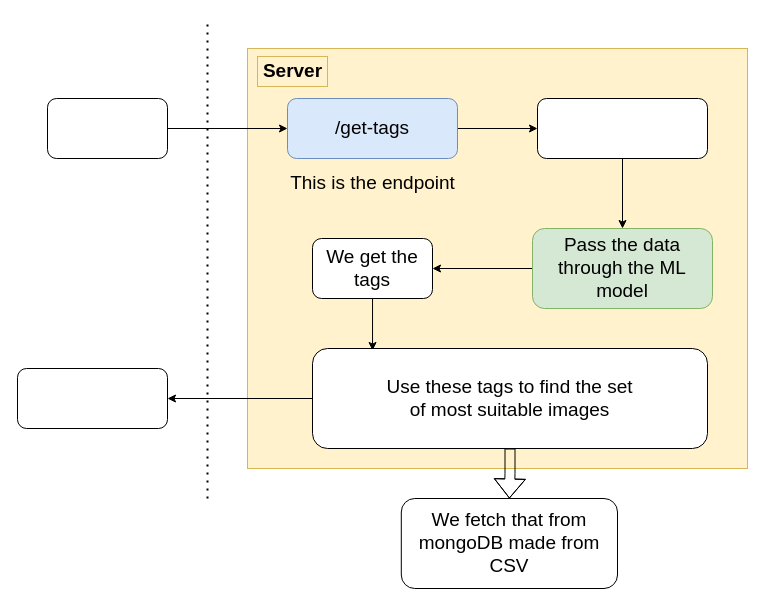
This 765x606 diagram has some shape labels left out. Each missing label, with the centre of its shape:
"Download image" belongs at (x=622, y=128).
"image url" belongs at (x=107, y=128).
"Return images" belongs at (x=92, y=398).
